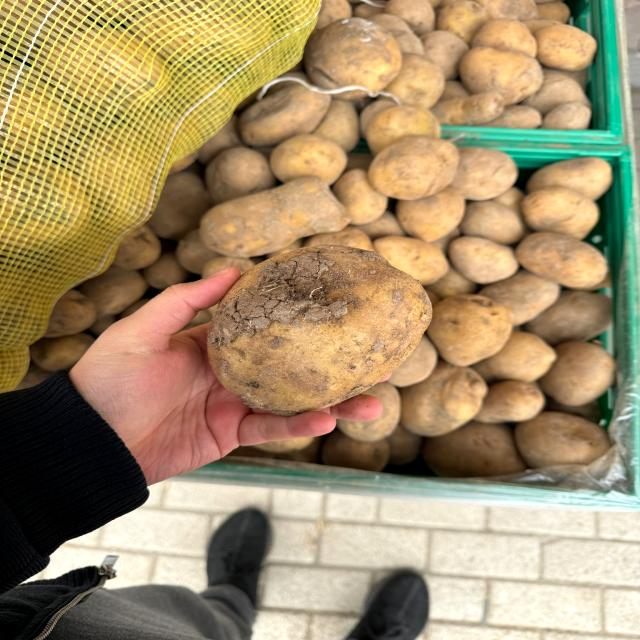potato: (189, 230, 443, 424)
